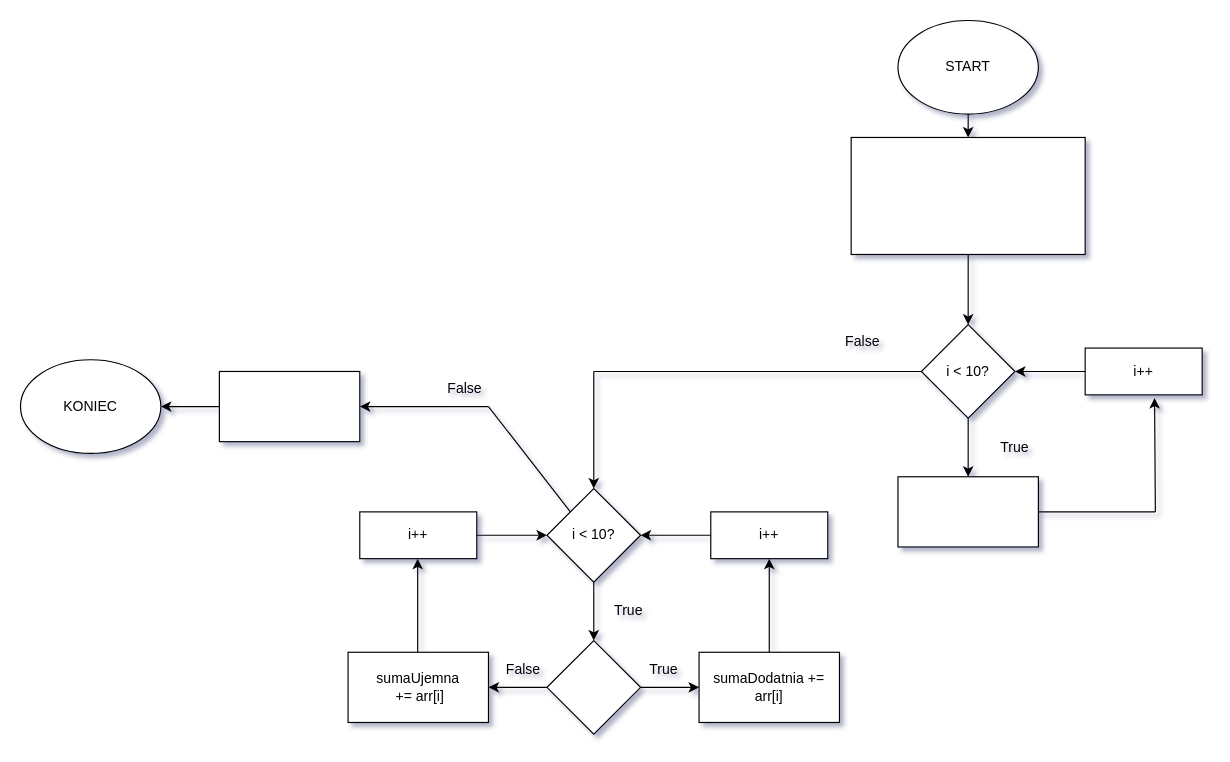
This 1230x762 diagram has some shape labels left out. The shapes that lost their labels are listed below. From the top down, each one's centre as x and y in pixels, then its label:
At pixel 967 195: "Zdefiniuj zmienne: int arr[10], sumaDodatnia = 0, sumaUjemna = 0, int i = 0".
At pixel 289 406: "Wypisz sumaDodatnia i sumaUjemna na standardowe wyjście".
At pixel 967 511: "Wczytaj element do tablicy".
At pixel 593 686: "arr[i] > 0".
